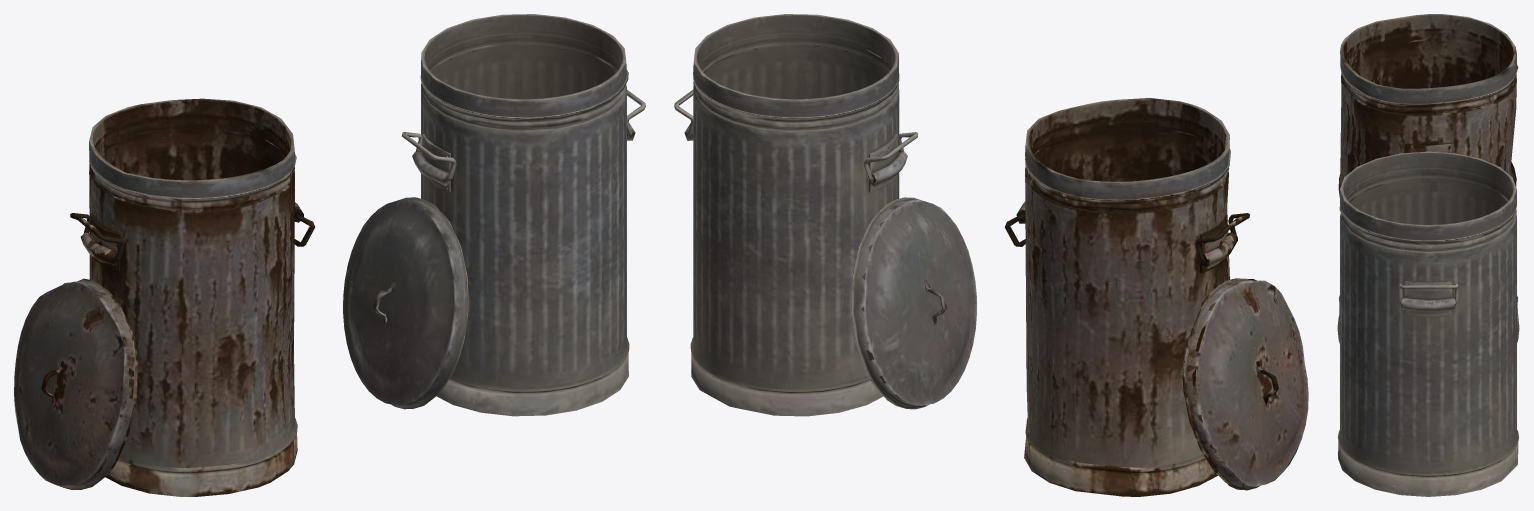
Rendered from metal_trash_can.glb.
3 renders of one model, left to right at view 1: azimuth 30°, elevation 25°; view 2: azimuth 150°, elevation 25°; view 3: azimuth 270°, elevation 25°, orthographic. The views are drawn at different scales.
Parts seen in each view (by area): view 1: metal_trash_can, metal_trash_can_rust, metal_trash_can_lid, metal_trash_can_rust_lid; view 2: metal_trash_can, metal_trash_can_rust, metal_trash_can_lid, metal_trash_can_rust_lid; view 3: metal_trash_can, metal_trash_can_rust, metal_trash_can_handle_right.
Boxes of the visible parts, bbox=[...] form: metal_trash_can: bbox=[412, 14, 635, 416]; metal_trash_can_rust: bbox=[80, 98, 303, 496]; metal_trash_can_lid: bbox=[343, 197, 468, 409]; metal_trash_can_rust_lid: bbox=[14, 278, 137, 489]; metal_trash_can: bbox=[684, 14, 907, 416]; metal_trash_can_rust: bbox=[1016, 98, 1237, 496]; metal_trash_can_lid: bbox=[851, 197, 976, 409]; metal_trash_can_rust_lid: bbox=[1182, 278, 1308, 490]; metal_trash_can: bbox=[1337, 151, 1518, 496]; metal_trash_can_rust: bbox=[1338, 14, 1518, 316]; metal_trash_can_handle_right: bbox=[1398, 283, 1458, 303].
Size of the model in its own units: 1.78 by 0.9062 by 0.5543.
Materials: 2 (2 with a texture image).
